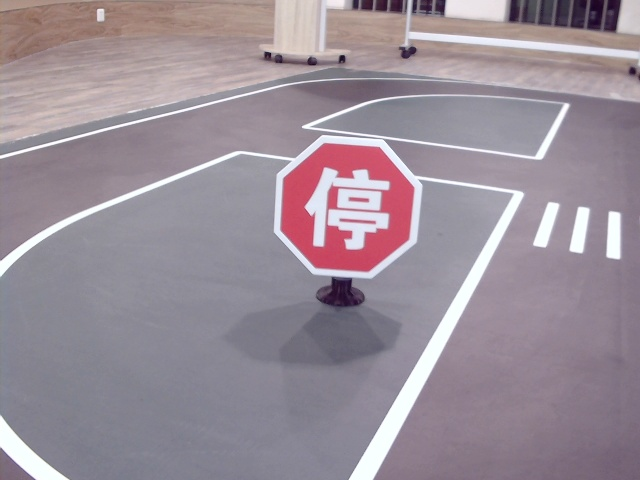stop: (305, 159, 393, 250)
